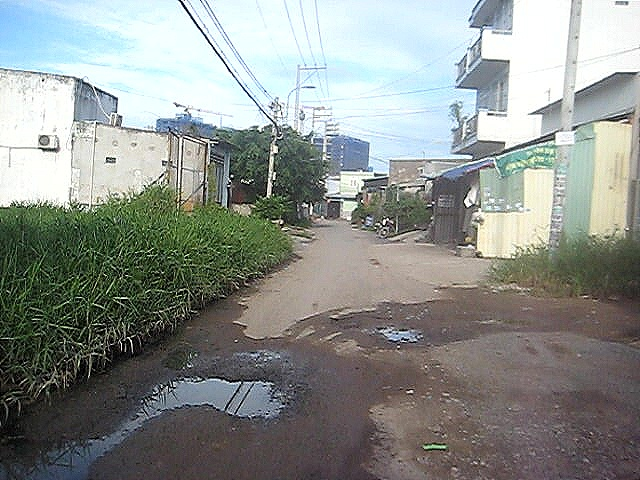hole: (1, 399, 141, 478), (292, 303, 456, 353), (144, 375, 290, 421)
